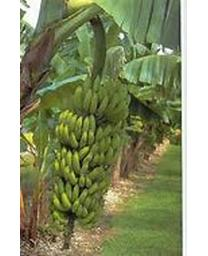banana: (50, 74, 131, 231)
